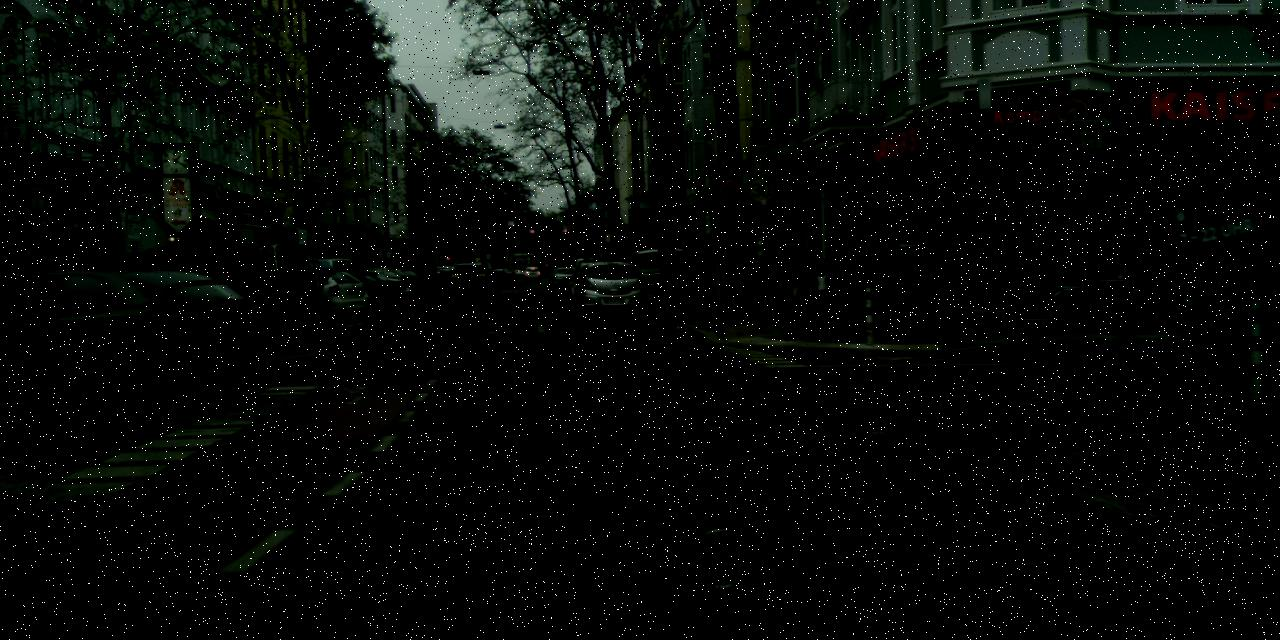ped: (800, 247, 824, 307), (816, 267, 831, 307)
